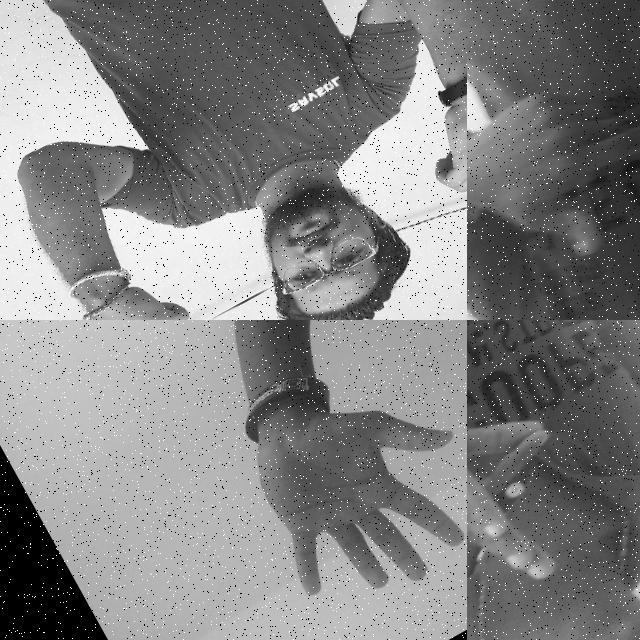Five Fathers: (467, 0, 640, 314)
Moutza: (204, 320, 467, 639)
Okay: (467, 320, 618, 640)
Reversed Victory: (397, 68, 467, 263), (70, 240, 238, 320)
